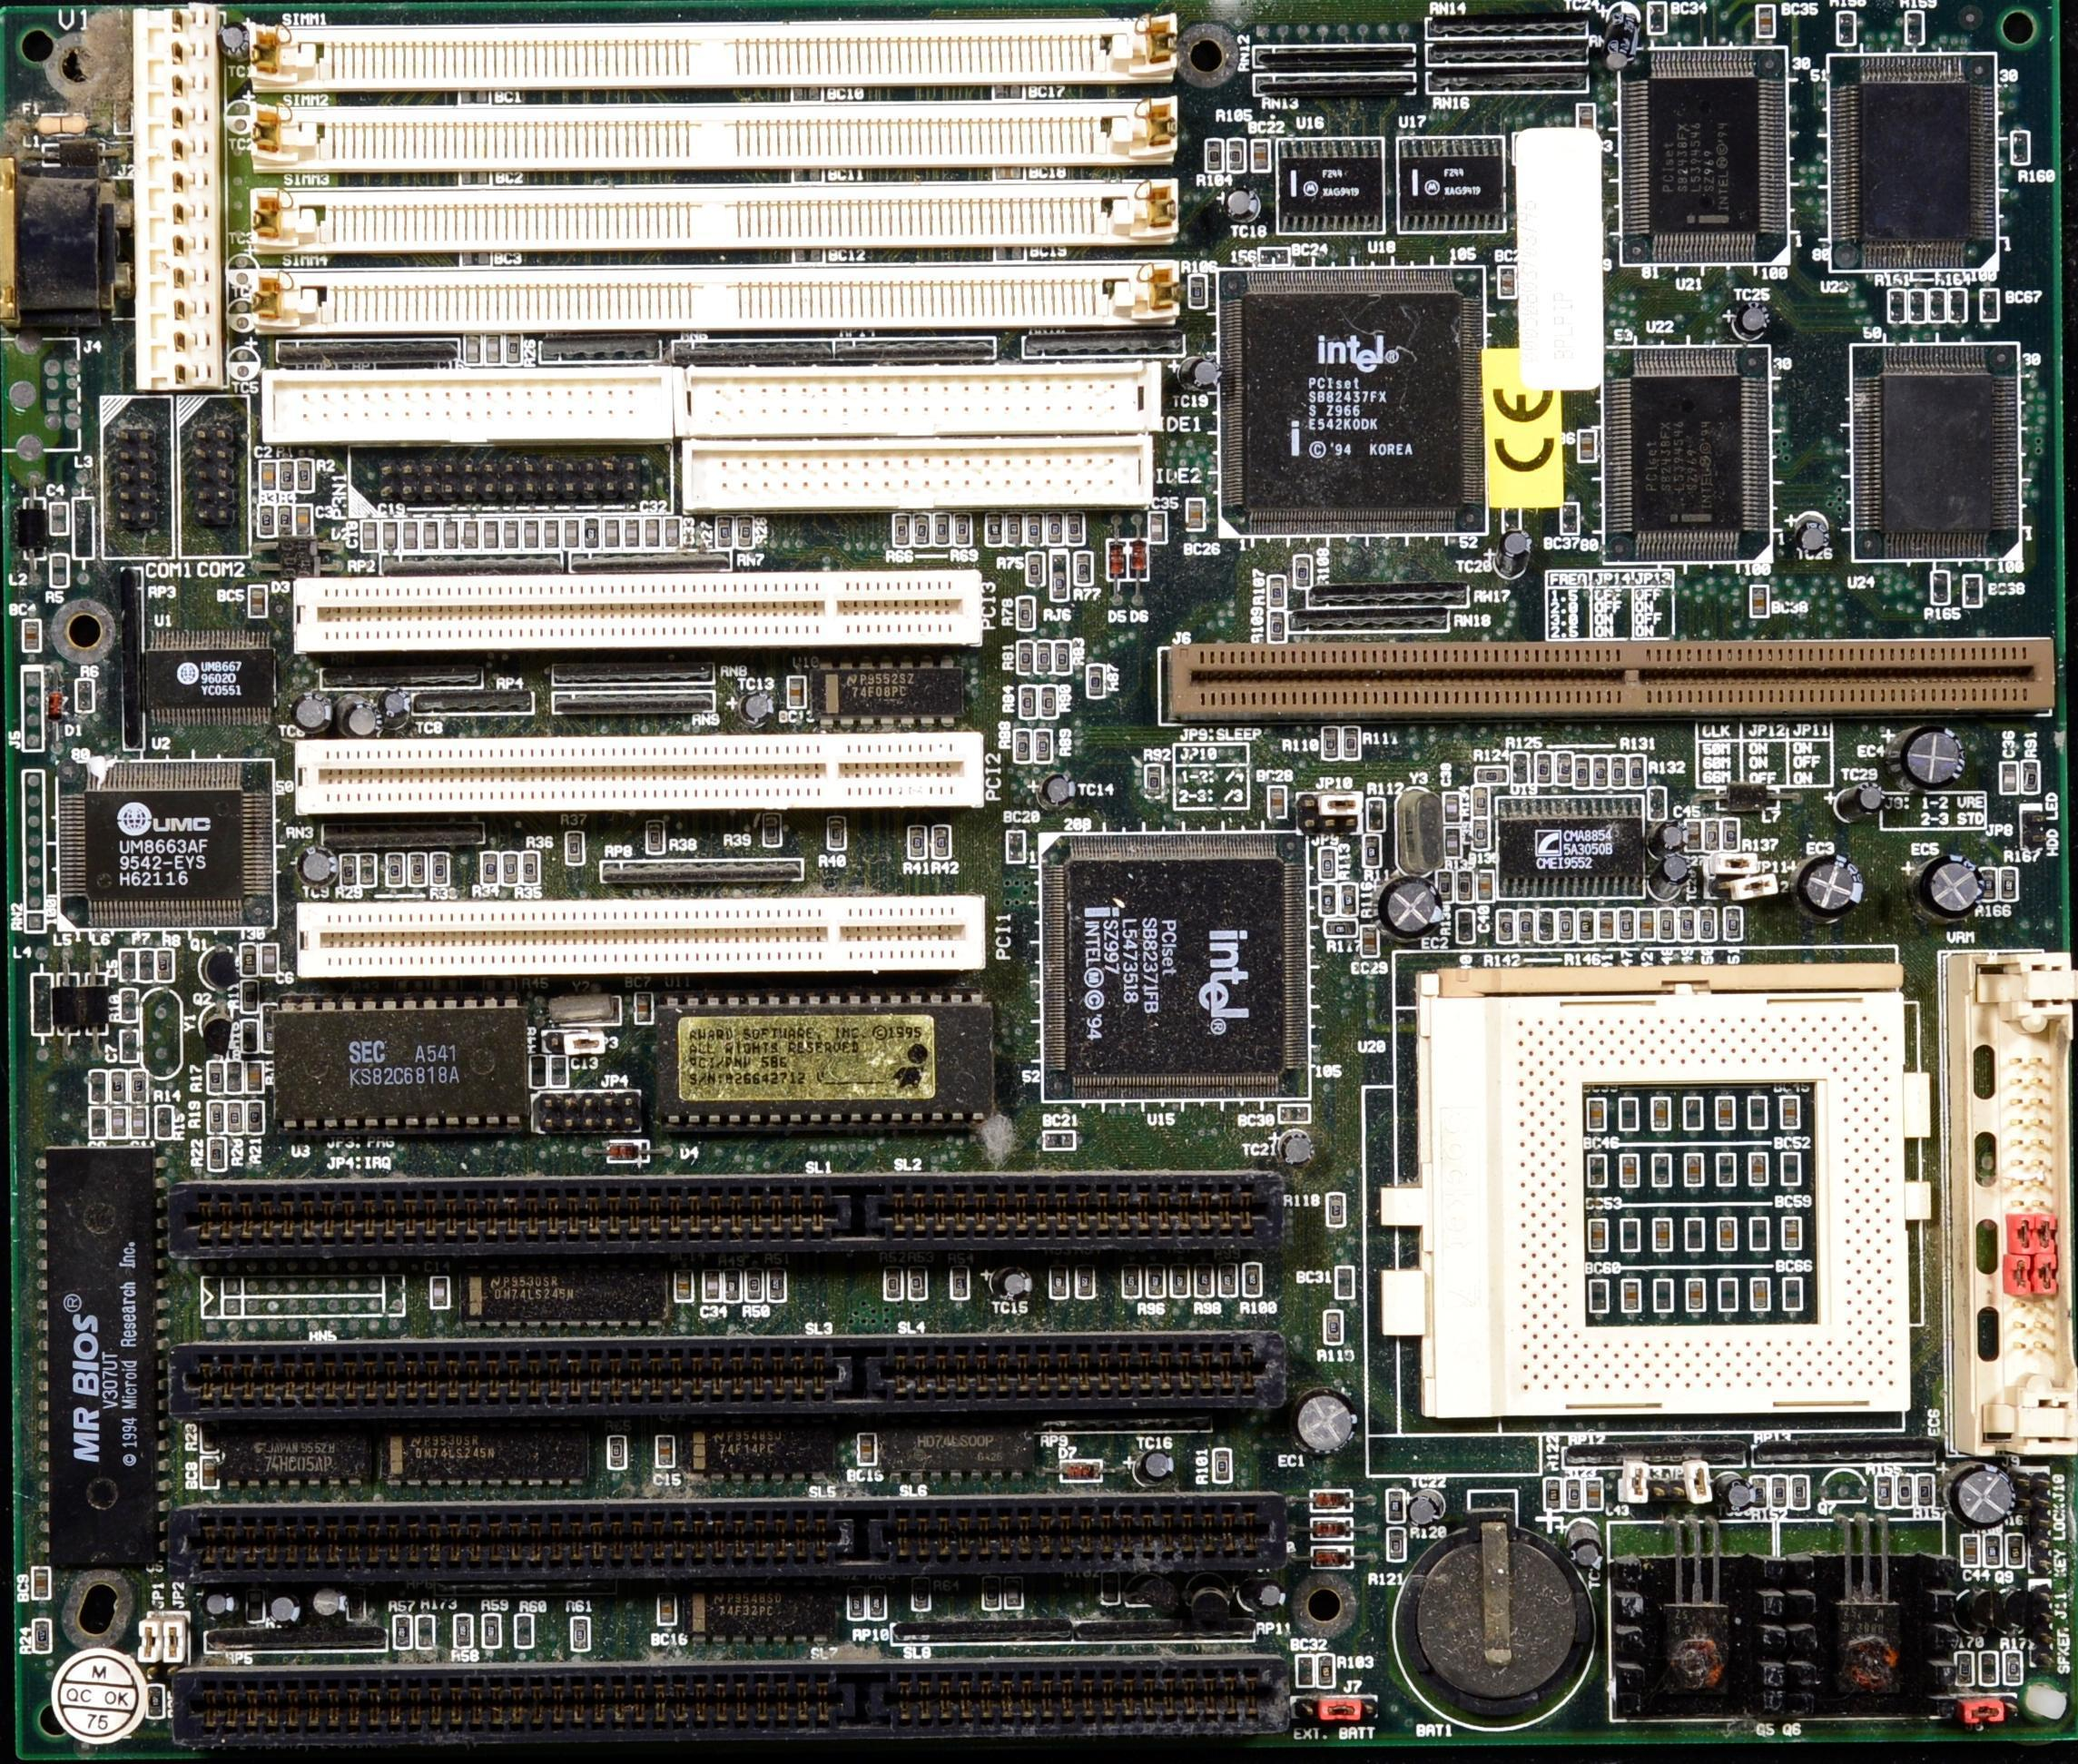Capacitor: (540, 519, 561, 551), (243, 1061, 262, 1094), (420, 519, 439, 554), (675, 1260, 692, 1300), (703, 1261, 718, 1302), (1636, 910, 1655, 941), (550, 1056, 570, 1087), (656, 1436, 675, 1468), (1582, 1478, 1602, 1511), (663, 517, 683, 549), (1998, 761, 2016, 793), (1496, 910, 1513, 943), (1361, 924, 1379, 957), (296, 503, 312, 536), (402, 518, 419, 552), (460, 519, 478, 554), (440, 519, 458, 553), (500, 519, 518, 553), (481, 520, 498, 553), (560, 519, 578, 550), (1149, 513, 1167, 544), (1683, 821, 1700, 852), (583, 520, 599, 549), (522, 521, 538, 552), (1477, 872, 1494, 902), (52, 502, 69, 534), (381, 520, 397, 552), (260, 460, 275, 489), (642, 519, 657, 547), (1963, 1536, 1977, 1567), (622, 518, 636, 548), (1705, 821, 1719, 852), (603, 517, 616, 547)
Connector: (1159, 644, 2064, 720), (1946, 949, 2078, 1457), (228, 18, 1175, 82), (235, 271, 1189, 334), (246, 184, 1187, 246), (231, 103, 1180, 162), (178, 1339, 852, 1414), (178, 1183, 846, 1258), (296, 903, 984, 974), (190, 1507, 858, 1580), (294, 738, 987, 806), (294, 577, 980, 645), (176, 1670, 864, 1739), (255, 363, 687, 449), (133, 9, 226, 389), (689, 363, 1157, 438), (677, 443, 1150, 514), (854, 1180, 1286, 1253), (863, 1339, 1277, 1414), (868, 1501, 1295, 1569), (868, 1661, 1284, 1728), (362, 454, 667, 502)
IC: (1390, 942, 1942, 1435), (1217, 275, 1486, 538), (1045, 843, 1305, 1097), (34, 1147, 170, 1585), (653, 992, 994, 1136), (60, 756, 278, 933), (1615, 48, 1790, 266), (1826, 62, 1999, 280), (1853, 343, 2019, 566), (1608, 348, 1774, 559), (273, 1006, 530, 1138), (1494, 793, 1652, 900), (458, 1268, 671, 1329), (147, 631, 278, 728), (383, 1427, 595, 1487), (808, 658, 967, 726), (209, 1423, 371, 1488), (1276, 141, 1384, 232), (1394, 141, 1502, 227), (883, 1430, 1037, 1480), (693, 1434, 834, 1483)
Resistor: (1886, 289, 1907, 325), (1997, 866, 2018, 903), (246, 1103, 265, 1138), (392, 1612, 411, 1651), (1325, 918, 1357, 938), (2005, 1533, 2025, 1567), (113, 1071, 131, 1107), (1932, 567, 1949, 605), (87, 1108, 109, 1139), (1170, 1260, 1187, 1296), (827, 814, 845, 850), (90, 1071, 108, 1104), (1323, 1310, 1342, 1345), (1906, 13, 1925, 43), (1443, 828, 1463, 858), (1219, 1260, 1236, 1295), (950, 1264, 967, 1298), (1896, 1475, 1913, 1510), (1317, 1654, 1335, 1689), (1696, 908, 1715, 940), (1916, 1476, 1935, 1508), (1033, 731, 1052, 763), (2021, 761, 2039, 793), (1319, 846, 1338, 879), (228, 1060, 244, 1095), (110, 1106, 127, 1138), (129, 1108, 147, 1140), (1244, 1264, 1261, 1296), (885, 1265, 902, 1298), (769, 1267, 787, 1301), (1876, 1475, 1894, 1508), (455, 1616, 473, 1649), (485, 1616, 502, 1649), (1958, 1652, 1975, 1685), (1024, 513, 1041, 546), (716, 515, 734, 547), (735, 517, 752, 549), (1087, 665, 1103, 699), (1014, 730, 1031, 763), (1367, 798, 1385, 832), (909, 827, 928, 861), (565, 832, 583, 864), (430, 852, 448, 885), (1927, 290, 1944, 326), (76, 679, 94, 716), (1364, 833, 1381, 870), (1577, 909, 1594, 943), (133, 1074, 151, 1107), (1147, 1262, 1164, 1296), (911, 1266, 927, 1300), (744, 1267, 762, 1302), (1543, 1478, 1560, 1510), (1388, 1526, 1405, 1561), (1228, 140, 1245, 172), (2004, 1651, 2021, 1684), (1908, 291, 1925, 322), (258, 504, 272, 538), (953, 514, 971, 547), (892, 515, 910, 547), (1065, 516, 1083, 547), (1005, 516, 1023, 547), (1029, 552, 1044, 586), (1074, 552, 1090, 586), (1294, 554, 1310, 587), (1052, 570, 1069, 605), (1268, 610, 1286, 643), (1017, 640, 1034, 673), (1038, 687, 1055, 719), (1323, 727, 1340, 759), (1146, 764, 1162, 799), (522, 853, 539, 885), (357, 855, 375, 888), (388, 854, 404, 889), (1978, 869, 1994, 902), (1078, 1263, 1093, 1297), (1123, 1263, 1139, 1297), (1564, 1478, 1580, 1513), (417, 1617, 431, 1651), (1837, 13, 1853, 45), (1047, 512, 1061, 546), (913, 512, 930, 547), (52, 556, 68, 587), (1019, 597, 1033, 629), (1475, 767, 1508, 782), (1443, 793, 1459, 825), (1722, 819, 1739, 852), (501, 852, 517, 885), (340, 854, 357, 887), (1319, 882, 1334, 915), (1341, 883, 1357, 918), (1656, 910, 1674, 941), (156, 1109, 173, 1137), (200, 1423, 217, 1453), (1769, 1476, 1788, 1507), (1946, 293, 1964, 324), (1055, 639, 1069, 676), (1677, 910, 1693, 941), (1539, 910, 1554, 942), (208, 1102, 224, 1134), (1327, 1194, 1343, 1226), (1214, 1451, 1230, 1482), (1790, 1475, 1806, 1507), (279, 458, 294, 490), (1343, 725, 1359, 757), (1512, 752, 1528, 783), (1555, 753, 1571, 784), (1628, 755, 1644, 787), (1573, 756, 1589, 788), (1472, 785, 1487, 817), (647, 822, 663, 853), (933, 828, 950, 860), (409, 852, 426, 884), (481, 853, 497, 885), (1436, 872, 1453, 902), (1053, 1257, 1066, 1298), (1517, 912, 1534, 941), (933, 513, 948, 547), (1609, 758, 1627, 786), (530, 1057, 547, 1087), (1984, 1536, 2002, 1566), (574, 1619, 589, 1649), (298, 460, 312, 490), (1456, 873, 1472, 902), (1558, 908, 1573, 942), (207, 1063, 220, 1095), (229, 1102, 243, 1137), (210, 1139, 224, 1172), (1206, 141, 1219, 172), (516, 1613, 529, 1646), (281, 505, 294, 537), (1269, 575, 1285, 606), (1037, 640, 1051, 675), (1617, 911, 1632, 939), (1196, 1266, 1211, 1297), (1983, 1651, 1998, 1684), (987, 513, 1001, 545), (1019, 686, 1034, 718), (764, 813, 779, 845), (1724, 910, 1739, 941), (1535, 754, 1550, 784), (1593, 758, 1607, 788), (724, 1266, 736, 1300), (1750, 1476, 1766, 1505), (360, 521, 375, 550), (1581, 107, 1594, 134), (1600, 910, 1611, 941)
